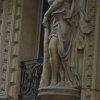Statue: (30, 3, 89, 91)
